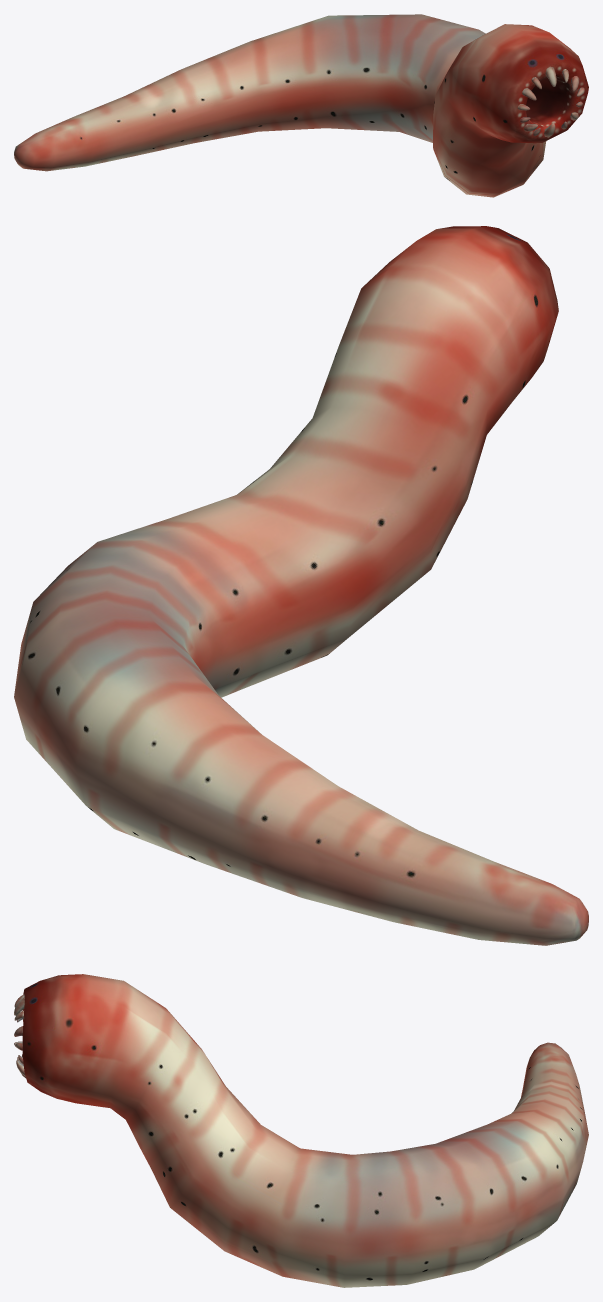
File: Gomunkul.FBX
The picture shows the model from 3 angles, top to bottom: view 1: azimuth 30°, elevation 25°; view 2: azimuth 150°, elevation 25°; view 3: azimuth 270°, elevation 25°; orthographic projection. The views are drawn at different scales.
Visible parts, largest first — view 1: TeloGamunkula; view 2: TeloGamunkula; view 3: TeloGamunkula.
Part boxes in pixels (<box>): TeloGamunkula: <box>14,14,588,197</box>; TeloGamunkula: <box>14,226,588,945</box>; TeloGamunkula: <box>14,974,588,1287</box>.
Size of the model in its own units: 43.3 by 22.53 by 45.46.
